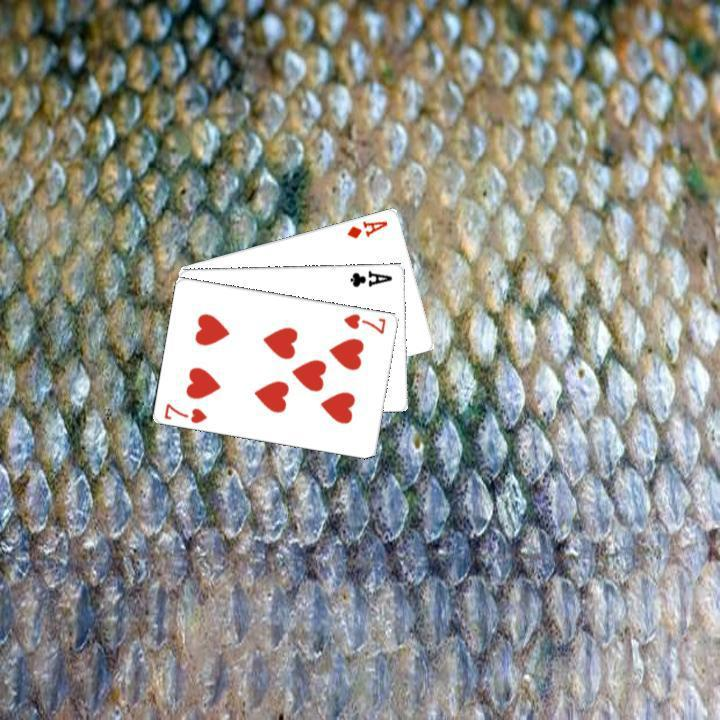7: (339, 309, 388, 336), (160, 398, 209, 425)
A: (343, 216, 390, 240), (346, 266, 394, 289)
